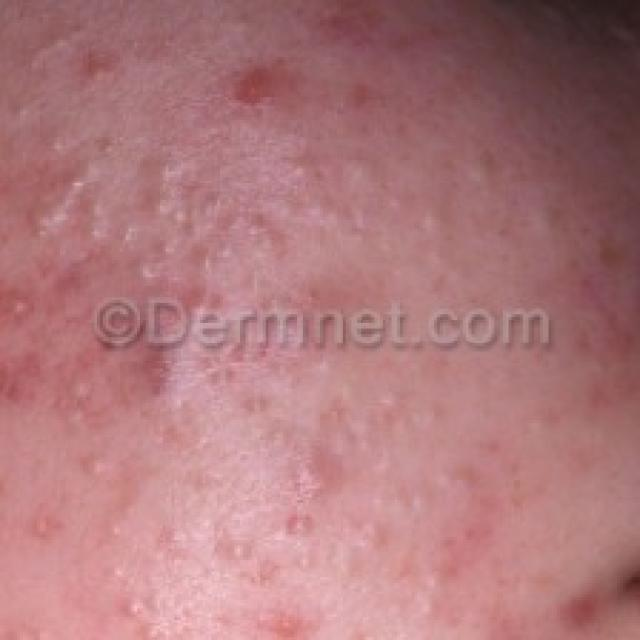Acne: (0, 25, 628, 638)
